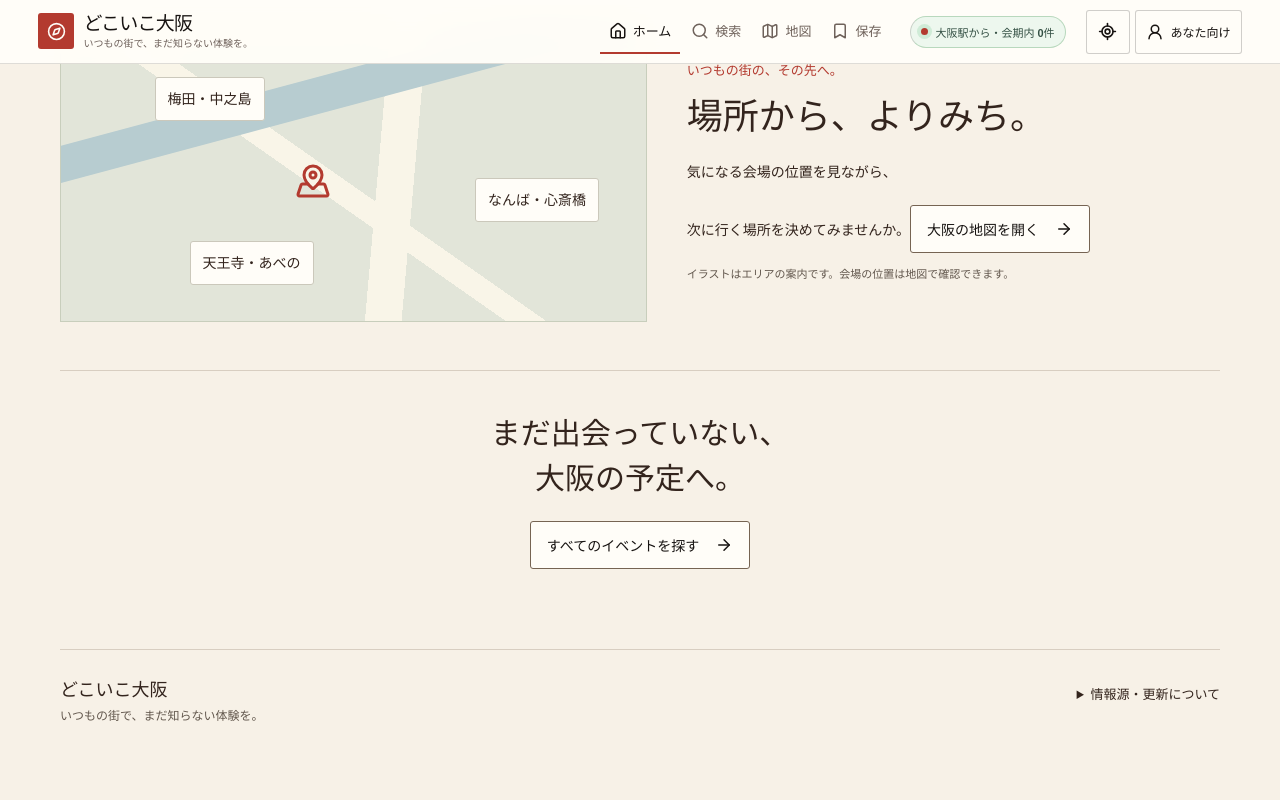
Scenario: App editorial home integration › mounts the editorial home first with primary discovery controls
(page scrolled)
Click the button "すべてのイベントを探す". click: (640, 545)
box: [530,521,750,569]
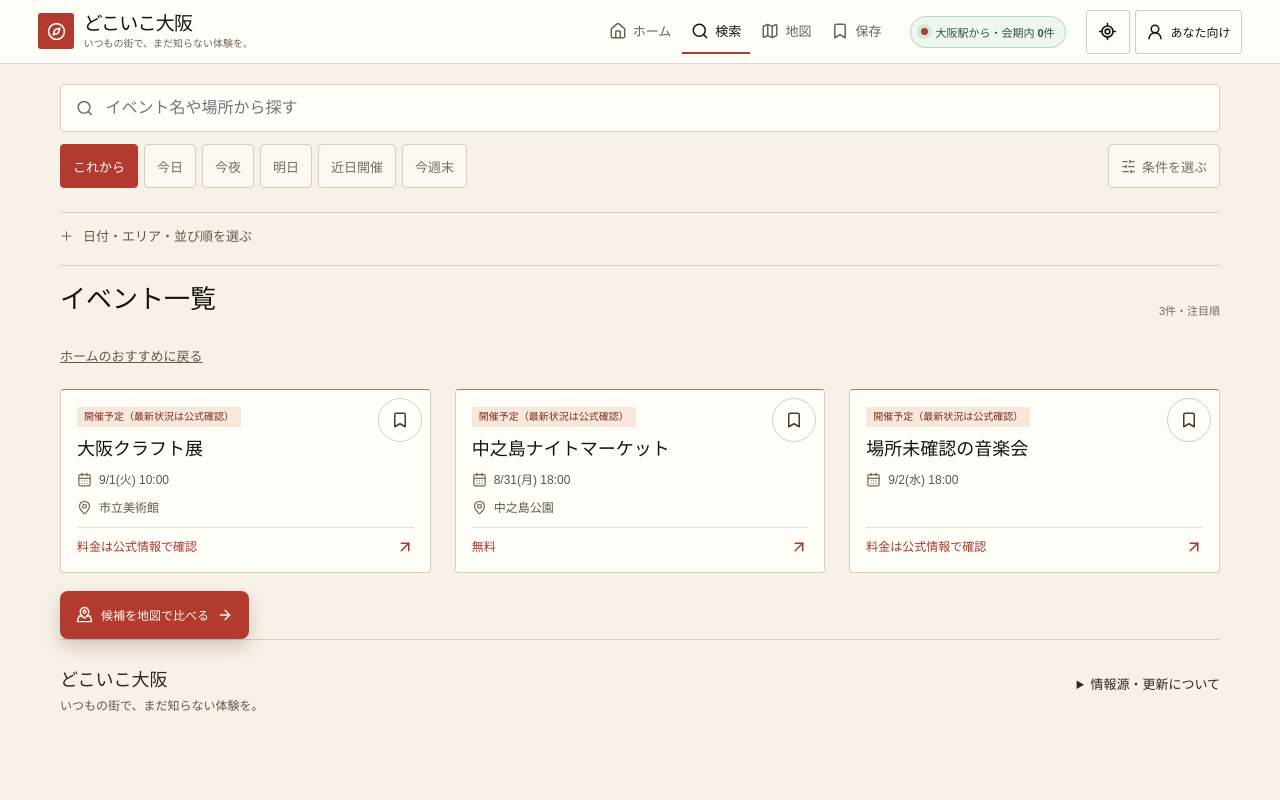
Result: the heading "イベント一覧" is shown at [60,282,216,318]
Result: the text "3件・注目順" is shown at [1159,302,1220,318]
